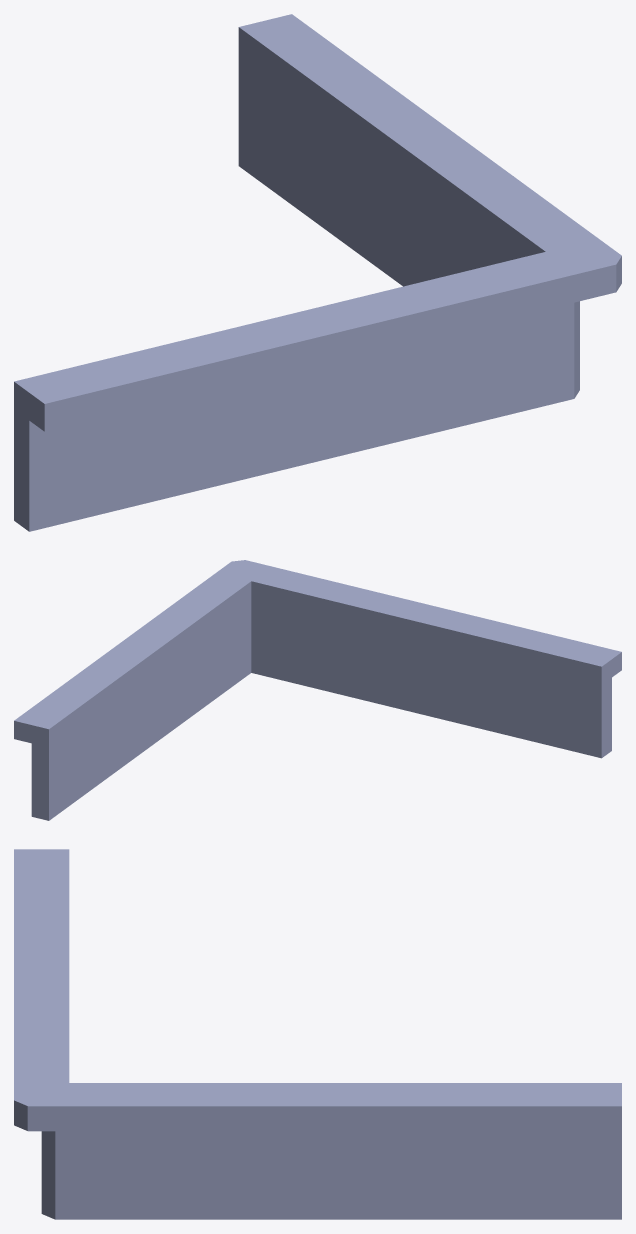
The model's file is border-high-corner.obj.
The picture shows the model from 3 angles, top to bottom: view 1: azimuth 30°, elevation 25°; view 2: azimuth 150°, elevation 25°; view 3: azimuth 270°, elevation 25°; orthographic projection. The views are drawn at different scales.
Size of the model in its own units: 2.2 by 0.5 by 2.2.
